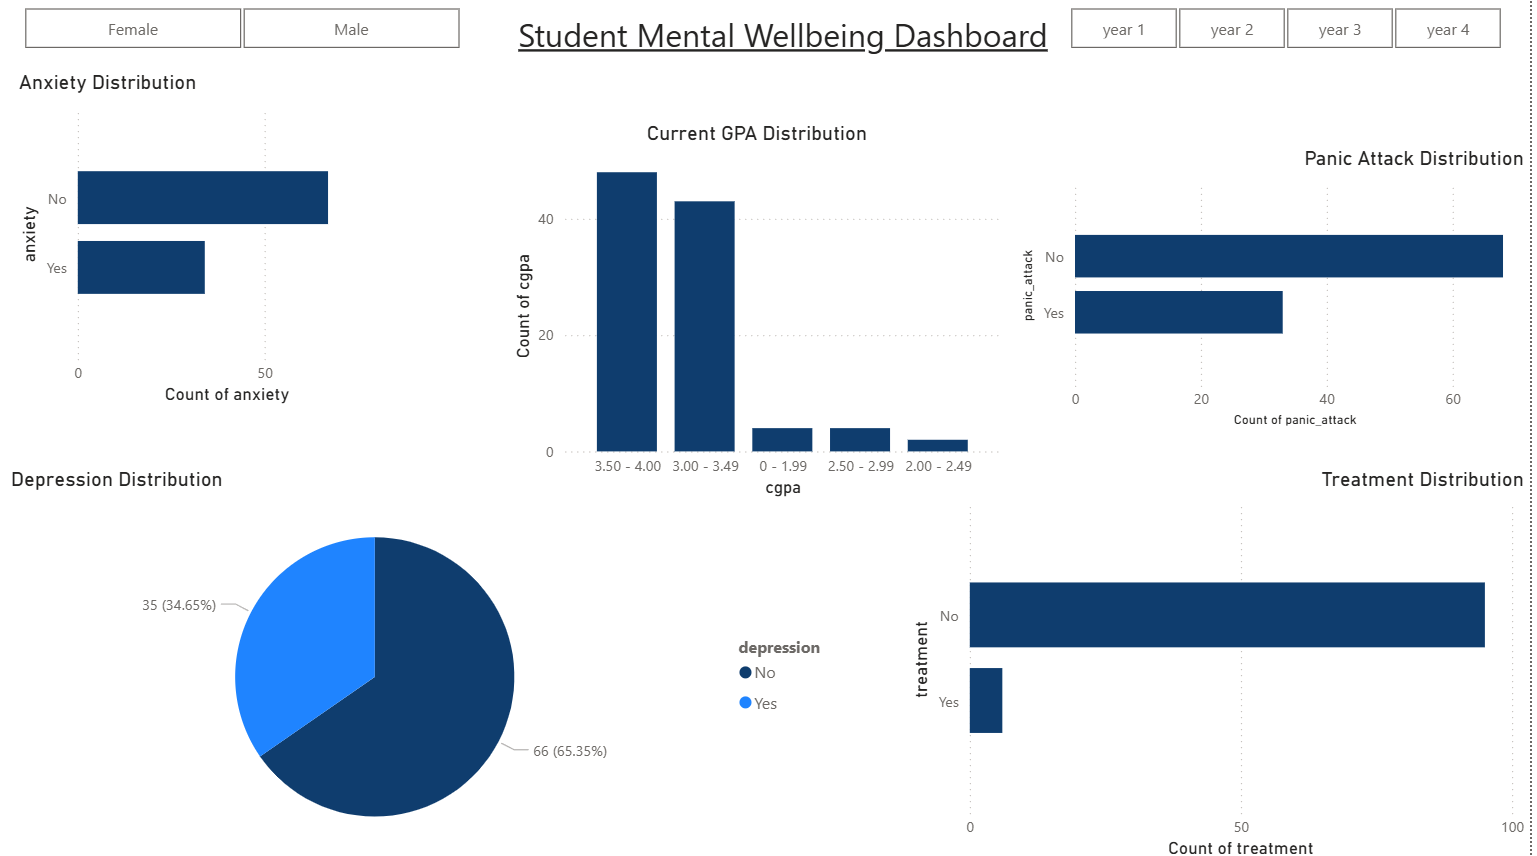

The page's visual inventory and layout, read from the dashboard file:
{"tool":"powerbi","page":{"name":"Page 1","canvas":[1280,720],"ordinal":0},"visuals":[{"type":"clusteredBarChart","title":"Anxiety Distribution","fields":{"Category":["student_wellbeing_cleaned.anxiety"],"Y":["CountNonNull(student_wellbeing_cleaned.anxiety)"]},"box":[15.8,58.3,315,283.3],"z":0},{"type":"pieChart","title":"Depression Distribution","fields":{"Category":["student_wellbeing_cleaned.depression"],"Y":["CountNonNull(student_wellbeing_cleaned.depression)"]},"box":[9.2,389.2,703.3,330.8],"z":1000},{"type":"clusteredBarChart","title":"Panic Attack Distribution","fields":{"Category":["student_wellbeing_cleaned.panic_attack"],"Y":["CountNonNull(student_wellbeing_cleaned.panic_attack)"]},"box":[850.8,121.7,429.2,238.3],"z":2000},{"type":"clusteredBarChart","title":"Treatment Distribution","fields":{"Category":["student_wellbeing_cleaned.treatment"],"Y":["CountNonNull(student_wellbeing_cleaned.treatment)"]},"box":[759.2,389.2,520.8,330.8],"z":3000},{"type":"clusteredColumnChart","title":"Current GPA Distribution","fields":{"Category":["student_wellbeing_cleaned.cgpa"],"Y":["CountNonNull(student_wellbeing_cleaned.cgpa)"]},"box":[427.5,100.8,416.7,318.3],"z":4000},{"type":"slicer","title":"Year Of Study","fields":{"Values":["student_wellbeing_cleaned.year_of_study"]},"box":[871.7,0,408.3,46.7],"z":4001},{"type":"slicer","title":"Gender","fields":{"Values":["student_wellbeing_cleaned.gender"]},"box":[0,0,411.7,46.7],"z":4002},{"type":"textbox","box":[421.7,5,471.7,81.7],"z":4003}]}

Visuals, with their boxes in screenshot pixels (x1, y1, x2, y2), scaled from the page's 1280x720 canvas onto the 1537x856 screenshot:
"Anxiety Distribution" clusteredBarChart: 19,69,397,406
"Depression Distribution" pieChart: 11,463,856,855
"Panic Attack Distribution" clusteredBarChart: 1022,145,1536,428
"Treatment Distribution" clusteredBarChart: 912,463,1536,855
"Current GPA Distribution" clusteredColumnChart: 513,120,1014,498
"Year Of Study" slicer: 1047,0,1536,56
"Gender" slicer: 0,0,494,56
textbox: 506,6,1073,103
